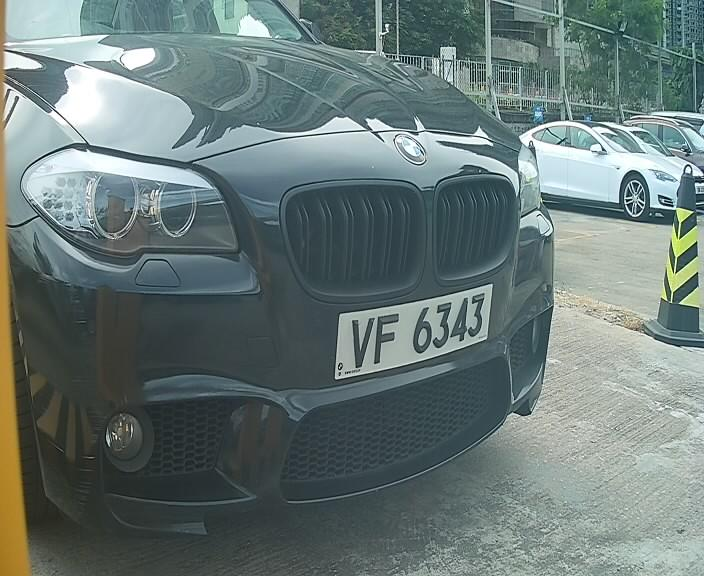Car: (4, 19, 613, 535)
License Plate: (324, 276, 494, 389)
